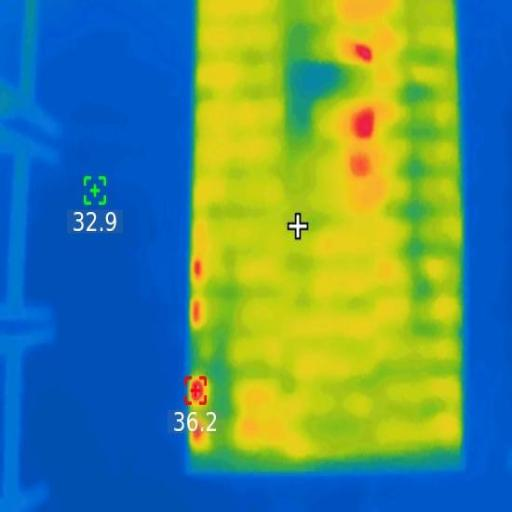hotspot: (348, 104, 383, 137), (347, 38, 375, 66), (187, 375, 208, 405), (350, 155, 373, 181), (189, 288, 202, 329), (192, 256, 206, 280), (192, 422, 206, 446)
